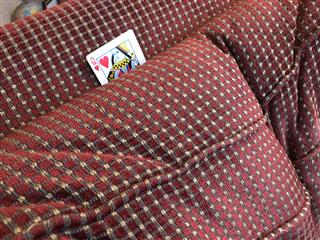QueenOfHearts: (85, 28, 146, 85)
